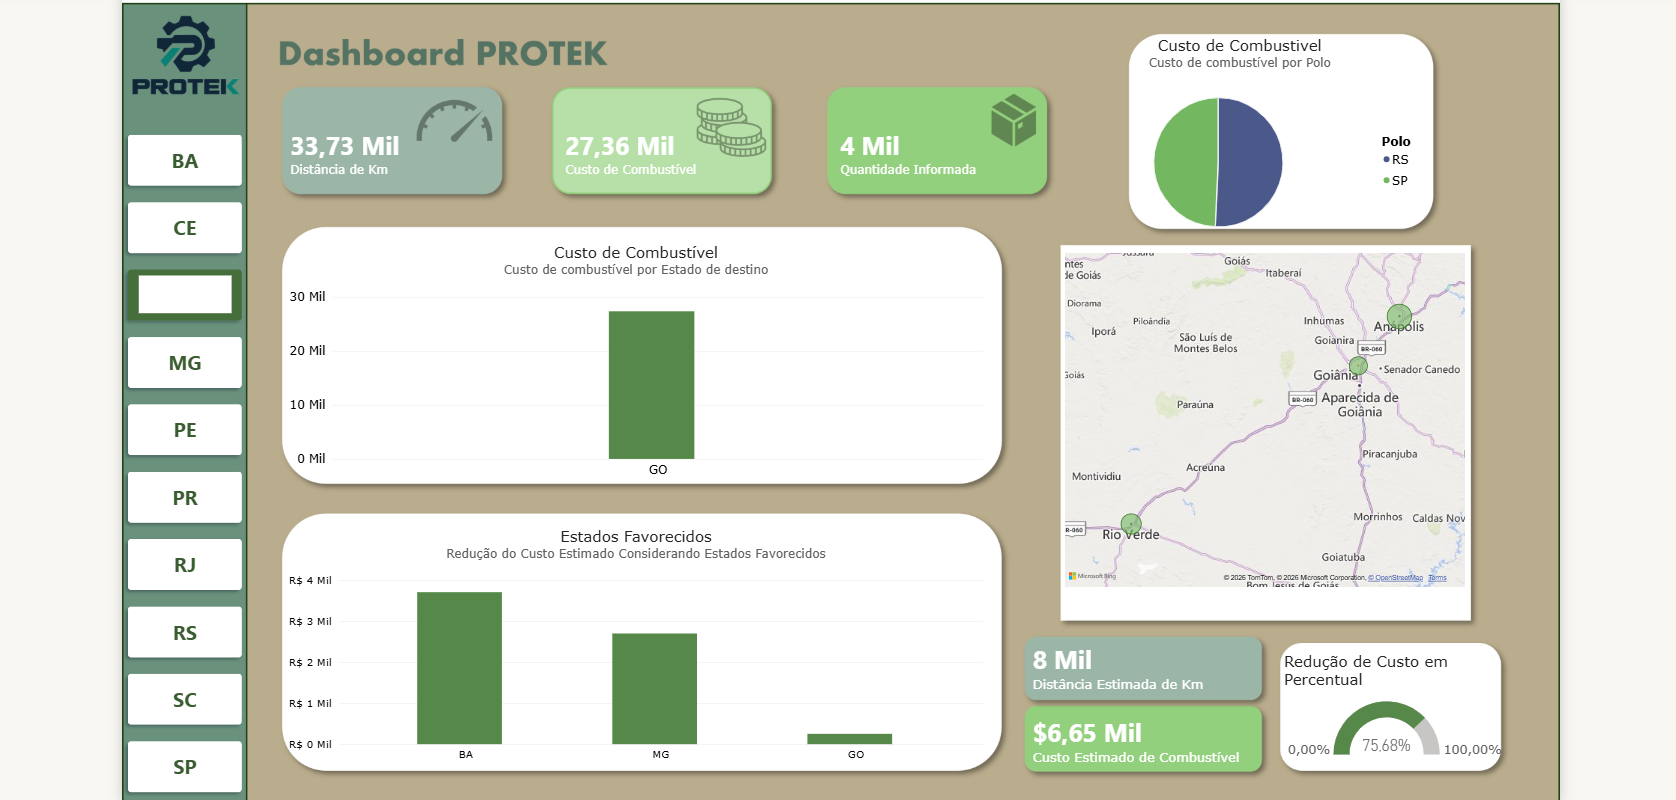

Layout of this report page (visuals, bound fields, positions):
{"tool":"powerbi","page":{"name":"Página 1","canvas":[1920,1080],"ordinal":0},"visuals":[{"type":"clusteredColumnChart","title":"Custo de Combustível","fields":{"Category":["Página1 (2).Estado_Destino"],"Y":["Sum(Página1 (2).Custo_Combustivel)"]},"box":[206.3,316.7,959.1,347.5],"z":0},{"type":"map","fields":{"Category":["Página1 (2).Cidade_Destino"],"Size":["Sum(Página1 (2).Custo_Combustivel)"]},"box":[1243.2,331.2,566.4,513.9],"z":1000},{"type":"pieChart","title":"Custo de Combustivel","fields":{"Category":["Página1 (2).Polo"],"Y":["Sum(Página1 (2).Custo_Combustivel)"]},"box":[1230.6,39.8,524.8,307.6],"z":2000},{"type":"advancedSlicerVisual","fields":{"Values":["Página1 (2).Estado_Destino"]},"box":[0,179.2,168.3,901.2],"z":3000},{"type":"cardVisual","fields":{"Data":["Sum(Página1 (2).Distancia_km)"]},"box":[208,144,293.2,135.7],"z":4000},{"type":"cardVisual","fields":{"Data":["Sum(Página1 (2).Custo_Combustivel)"]},"box":[576,144,293.2,135.7],"z":5000},{"type":"cardVisual","fields":{"Data":["Pagina.Quantidade Informada"]},"box":[944,144,293.2,135.7],"z":6000},{"type":"clusteredColumnChart","title":"Estados Favorecidos","fields":{"Category":["Distancias_Candidatos.UF_Destino"],"Y":["Sum(Distancias_Candidatos.Custo_Gasolina)"]},"box":[206.3,696.7,959.1,347.5],"z":7000},{"type":"gauge","title":"Redução de Custo em Percentual","fields":{"Y":["Distancias_Candidatos.Reducao Percentual"]},"box":[1536,864,327.5,173.7],"z":8000},{"type":"cardVisual","fields":{"Data":["Distancias_Candidatos.Custo Gasolina por Polo"]},"box":[1200,928,345.6,135.7],"z":9000},{"type":"cardVisual","fields":{"Data":["Distancias_Candidatos.Estimativa Distancia"]},"box":[1200,832,293.2,135.7],"z":9001}]}

Visuals, with their boxes in screenshot pixels (x1, y1, x2, y2):
"Custo de Combustível" clusteredColumnChart: bbox=[274, 218, 999, 480]
map - Página1 (2).Cidade_Destino x Sum(Página1 (2).Custo_Combustivel): bbox=[1058, 229, 1486, 617]
"Custo de Combustivel" pieChart: bbox=[1048, 8, 1445, 241]
advancedSlicerVisual - Página1 (2).Estado_Destino: bbox=[118, 114, 245, 795]
cardVisual - Sum(Página1 (2).Distancia_km): bbox=[275, 87, 497, 190]
cardVisual - Sum(Página1 (2).Custo_Combustivel): bbox=[553, 87, 775, 190]
cardVisual - Pagina.Quantidade Informada: bbox=[832, 87, 1053, 190]
"Estados Favorecidos" clusteredColumnChart: bbox=[274, 505, 999, 768]
"Redução de Custo em Percentual" gauge: bbox=[1279, 631, 1527, 763]
cardVisual - Distancias_Candidatos.Custo Gasolina por Polo: bbox=[1025, 680, 1287, 782]
cardVisual - Distancias_Candidatos.Estimativa Distancia: bbox=[1025, 607, 1247, 710]
